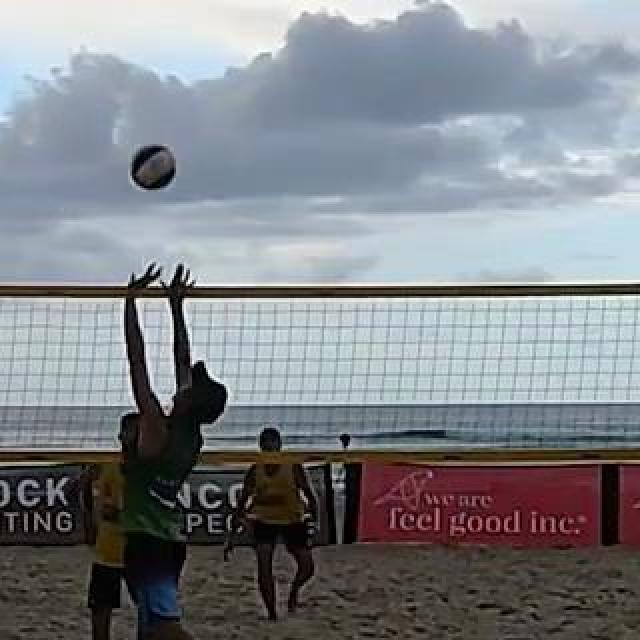volleyball: (129, 144, 177, 192)
